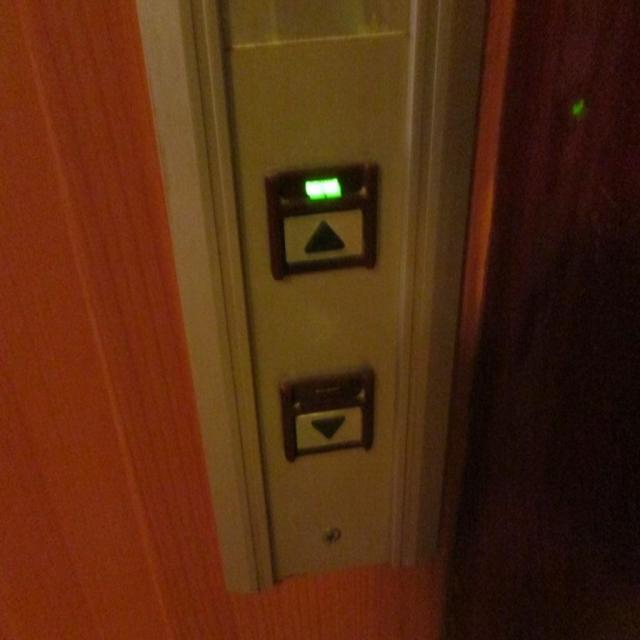down: (278, 370, 374, 462)
up: (264, 161, 378, 280)
